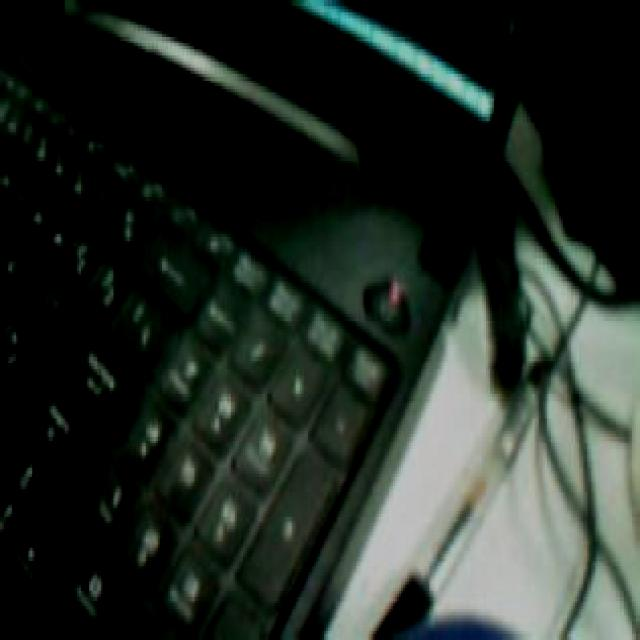BallPurple: (382, 606, 522, 640)
